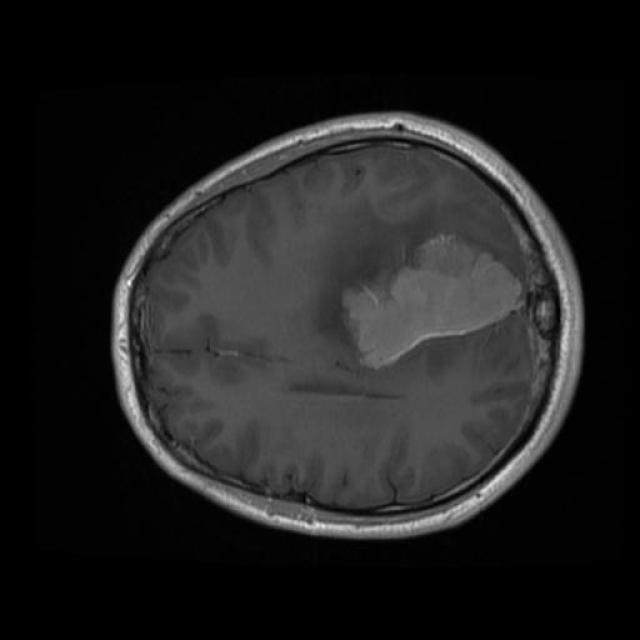Meningioma: (342, 234, 521, 369)
